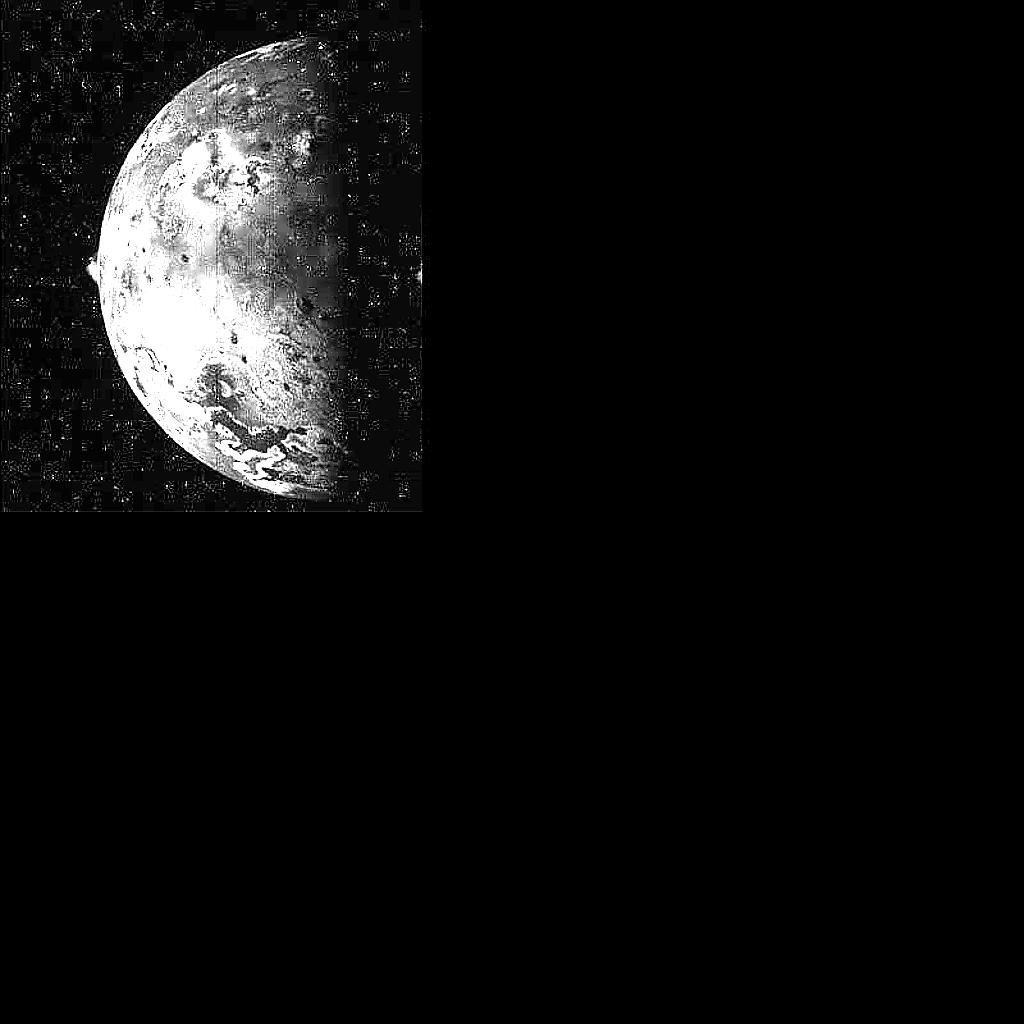plumes: (86, 254, 102, 286), (417, 265, 427, 287)
